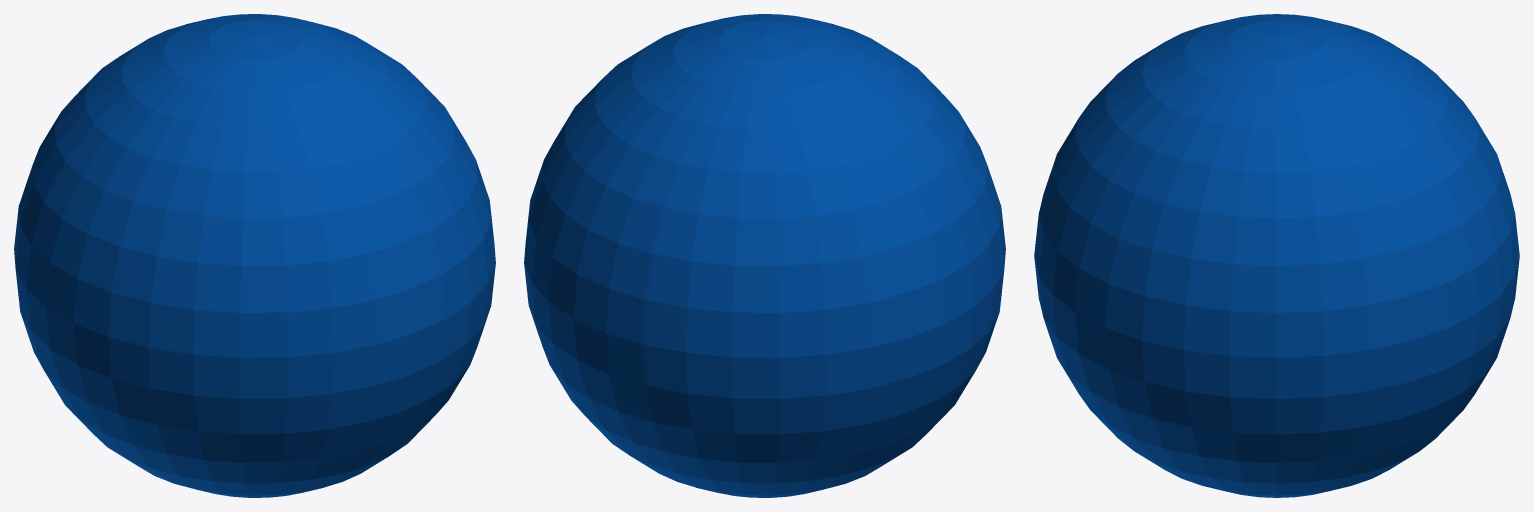
File: BallEnemy.fbx
3 renders of one model, left to right at view 1: azimuth 30°, elevation 25°; view 2: azimuth 150°, elevation 25°; view 3: azimuth 270°, elevation 25°, orthographic.
Parts seen in each view (by area): view 1: Cube; view 2: Cube; view 3: Cube.
Boxes of the visible parts, <box> form: Cube: <box>14,14,495,497</box>; Cube: <box>524,14,1005,497</box>; Cube: <box>1034,14,1519,497</box>.
Bounding box in the file's own units: 392 × 394 × 394.
